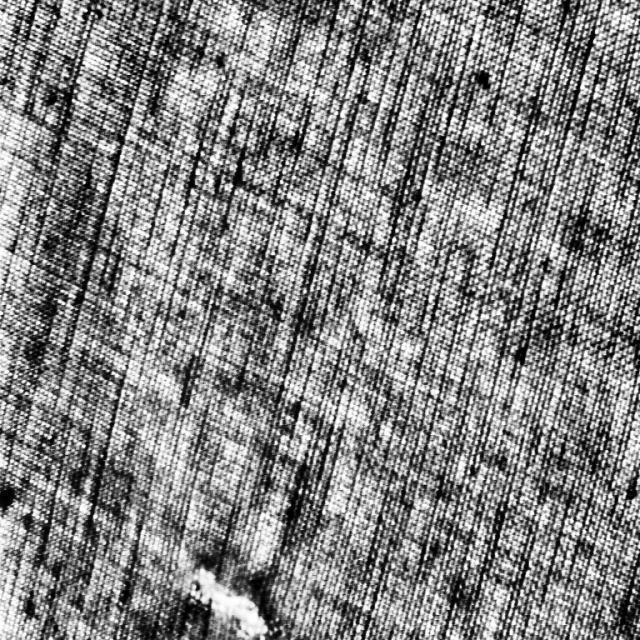selvet: (188, 563, 271, 639)
